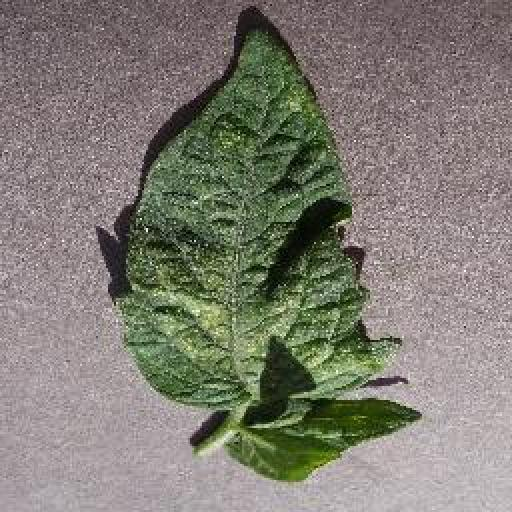Spider Mites: (115, 21, 421, 483)
